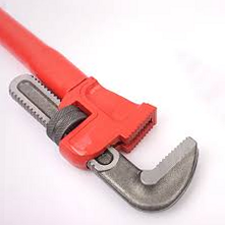wrench: (1, 7, 215, 214)
